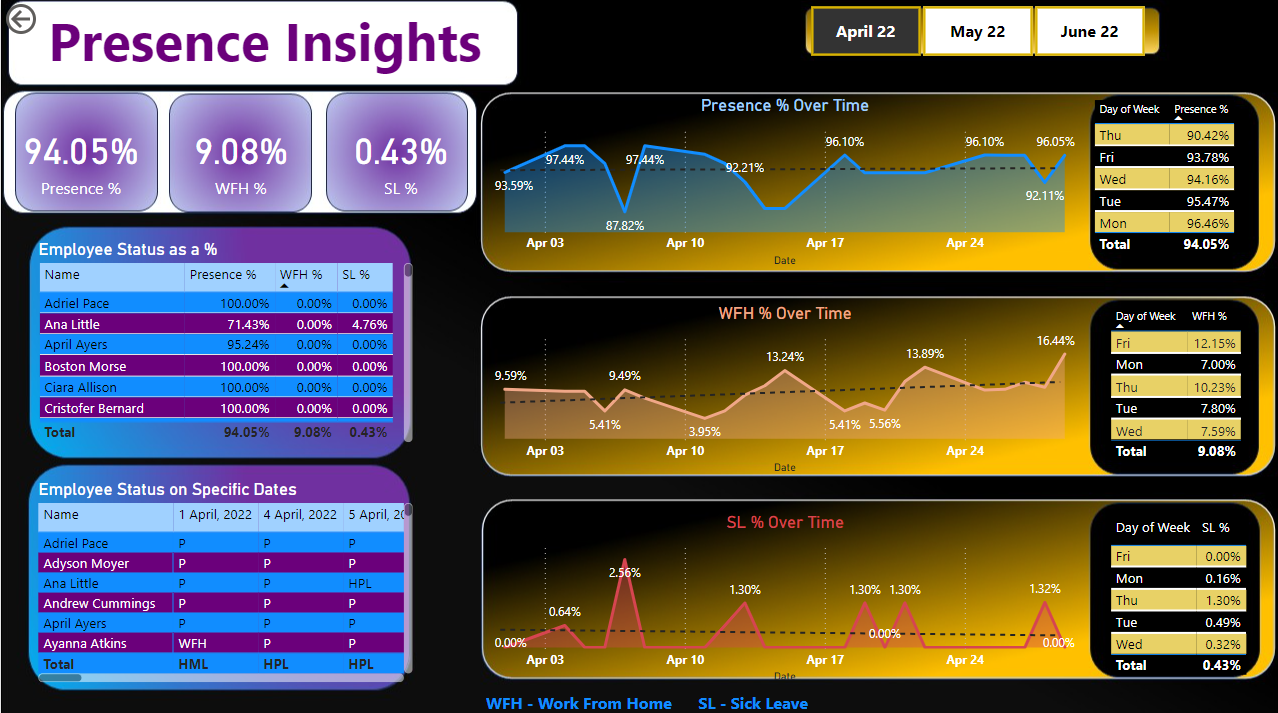

This screenshot's page, from the dashboard's own definition file:
{"tool":"powerbi","page":{"name":"Page 1","canvas":[1280,720],"ordinal":0},"visuals":[{"type":"card","fields":{"Values":["Measure Table.SL %"]},"box":[320,96,160,128],"z":0},{"type":"card","fields":{"Values":["Measure Table.Presence %"]},"box":[0,96,160,128],"z":1000},{"type":"card","fields":{"Values":["Measure Table.WFH %"]},"box":[160,96,160,128],"z":2000},{"type":"slicer","fields":{"Values":["Final Data.Month"]},"box":[784,0,384,64],"z":3000},{"type":"actionButton","box":[0,0,100,40],"z":4000},{"type":"textbox","box":[0,0,528,96],"z":5000},{"type":"tableEx","title":"Employee Status as a %","fields":{"Values":["Final Data.Name","Measure Table.Presence %","Measure Table.WFH %","Measure Table.SL %"]},"box":[32,240,384,208],"z":6000},{"type":"pivotTable","title":"Employee Status on Specific Dates","fields":{"Rows":["Final Data.Name"],"Values":["Min(Final Data.Value)"],"Columns":["Final Data.Date"]},"box":[32,480,384,208],"z":7000},{"type":"areaChart","title":"Presence % Over Time","fields":{"Y":["Measure Table.Presence %"],"Category":["Final Data.Date"]},"box":[480,96,608,176],"z":8000},{"type":"areaChart","title":"WFH % Over Time","fields":{"Category":["Final Data.Date"],"Y":["Measure Table.WFH %"]},"box":[480,304,608,176],"z":9000},{"type":"areaChart","title":"SL % Over Time","fields":{"Category":["Final Data.Date"],"Y":["Measure Table.SL %"]},"box":[480,512,608,176],"z":10000},{"type":"tableEx","fields":{"Values":["Final Data.Day of Week","Measure Table.Presence %"]},"box":[1088,96,192,176],"z":11000},{"type":"tableEx","fields":{"Values":["Final Data.Day of Week","Measure Table.WFH %"]},"box":[1104,304,160,192],"z":12000},{"type":"tableEx","fields":{"Values":["Final Data.Day of Week","Measure Table.SL %"]},"box":[1104,512,176,176],"z":13000}]}

Visuals, with their boxes in screenshot pixels (x1, y1, x2, y2), scaled from the page's 1280x720 canvas onto the 1278x713 screenshot:
card - Measure Table.SL %: {"x1": 320, "y1": 95, "x2": 479, "y2": 222}
card - Measure Table.Presence %: {"x1": 0, "y1": 95, "x2": 160, "y2": 222}
card - Measure Table.WFH %: {"x1": 160, "y1": 95, "x2": 320, "y2": 222}
slicer - Final Data.Month: {"x1": 783, "y1": 0, "x2": 1166, "y2": 63}
actionButton: {"x1": 0, "y1": 0, "x2": 100, "y2": 40}
textbox: {"x1": 0, "y1": 0, "x2": 527, "y2": 95}
"Employee Status as a %" tableEx: {"x1": 32, "y1": 238, "x2": 415, "y2": 444}
"Employee Status on Specific Dates" pivotTable: {"x1": 32, "y1": 475, "x2": 415, "y2": 681}
"Presence % Over Time" areaChart: {"x1": 479, "y1": 95, "x2": 1086, "y2": 269}
"WFH % Over Time" areaChart: {"x1": 479, "y1": 301, "x2": 1086, "y2": 475}
"SL % Over Time" areaChart: {"x1": 479, "y1": 507, "x2": 1086, "y2": 681}
tableEx - Final Data.Day of Week x Measure Table.Presence %: {"x1": 1086, "y1": 95, "x2": 1277, "y2": 269}
tableEx - Final Data.Day of Week x Measure Table.WFH %: {"x1": 1102, "y1": 301, "x2": 1262, "y2": 491}
tableEx - Final Data.Day of Week x Measure Table.SL %: {"x1": 1102, "y1": 507, "x2": 1277, "y2": 681}
